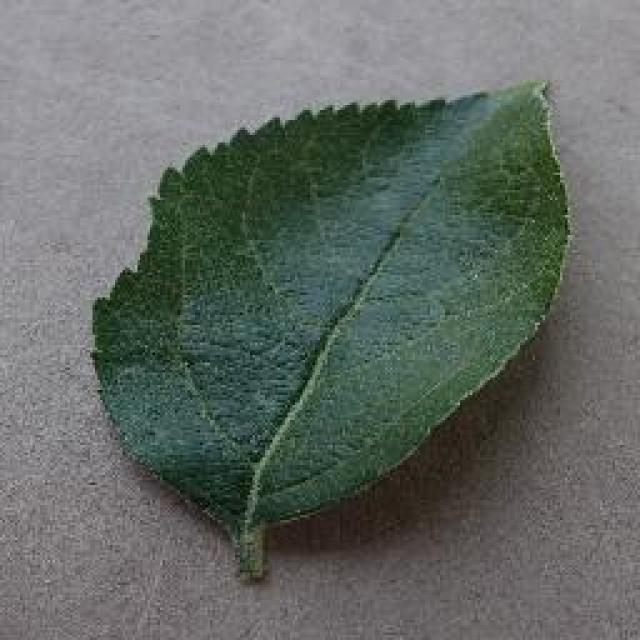apple healthy: (88, 75, 572, 580)
